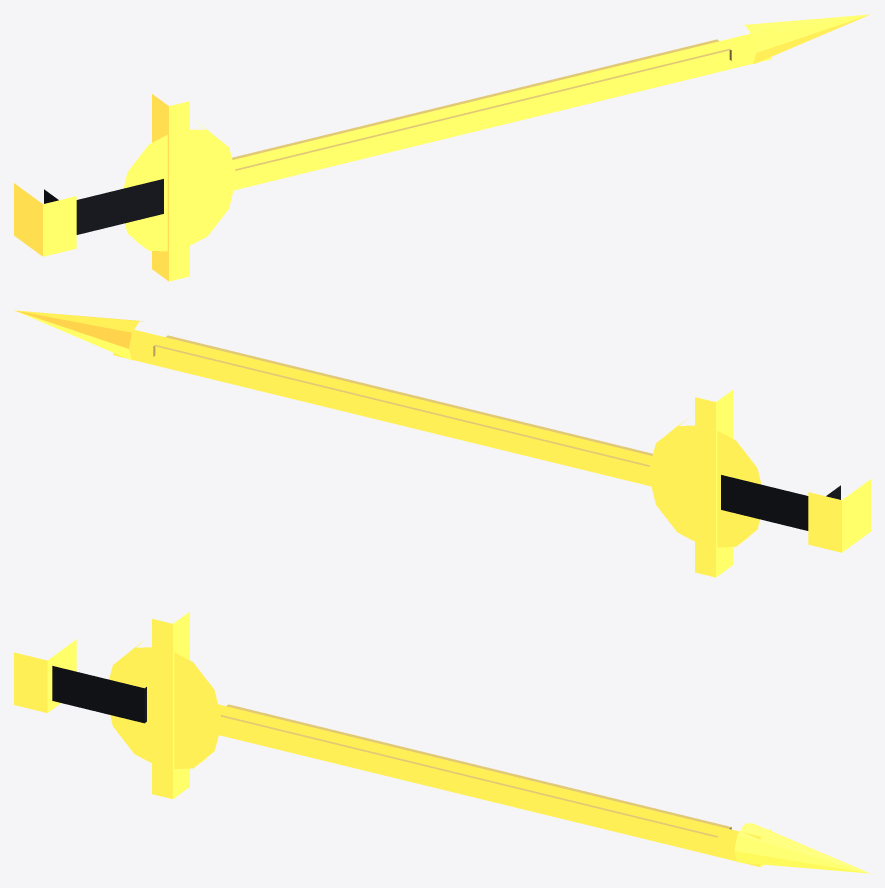
Rendered from divine-rapier.glb.
3 views of the same model, one above another, from view 1: azimuth 30°, elevation 25°; view 2: azimuth 150°, elevation 25°; view 3: azimuth 330°, elevation 25° (orthographic).
Parts seen in each view (by area): view 1: divine-rapier-blade, divine-rapier-guard, divine-rapier-quillon, divine-rapier-pommel, divine-rapier-grip, divine-rapier-fuller, divine-rapier-tip; view 2: divine-rapier-blade, divine-rapier-guard, divine-rapier-quillon, divine-rapier-pommel, divine-rapier-grip, divine-rapier-fuller, divine-rapier-tip; view 3: divine-rapier-blade, divine-rapier-guard, divine-rapier-quillon, divine-rapier-grip, divine-rapier-tip, divine-rapier-fuller, divine-rapier-pommel.
Part boxes in pixels (x1=…): divine-rapier-blade: x1=232, y1=28, x2=771, y2=190; divine-rapier-guard: x1=123, y1=122, x2=236, y2=251; divine-rapier-quillon: x1=152, y1=94, x2=189, y2=281; divine-rapier-pommel: x1=14, y1=183, x2=76, y2=256; divine-rapier-grip: x1=44, y1=179, x2=163, y2=234; divine-rapier-fuller: x1=232, y1=39, x2=731, y2=170; divine-rapier-tip: x1=741, y1=14, x2=870, y2=64; divine-rapier-blade: x1=113, y1=324, x2=652, y2=486; divine-rapier-guard: x1=648, y1=418, x2=761, y2=547; divine-rapier-quillon: x1=695, y1=390, x2=732, y2=577; divine-rapier-pommel: x1=808, y1=479, x2=870, y2=552; divine-rapier-grip: x1=721, y1=475, x2=840, y2=530; divine-rapier-fuller: x1=153, y1=335, x2=652, y2=466; divine-rapier-tip: x1=14, y1=310, x2=143, y2=360; divine-rapier-blade: x1=218, y1=704, x2=771, y2=867; divine-rapier-guard: x1=109, y1=639, x2=222, y2=769; divine-rapier-quillon: x1=152, y1=611, x2=189, y2=799; divine-rapier-grip: x1=52, y1=666, x2=146, y2=723; divine-rapier-tip: x1=734, y1=823, x2=870, y2=873; divine-rapier-fuller: x1=220, y1=704, x2=731, y2=837; divine-rapier-pommel: x1=14, y1=639, x2=76, y2=712.
Size of the model in its own units: 2.01 by 0.4 by 0.12.
